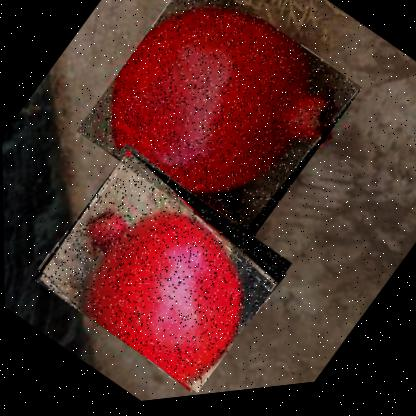pomegranate: (73, 0, 364, 271), (29, 138, 292, 413)
